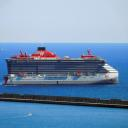cruises: (5, 45, 122, 87)
